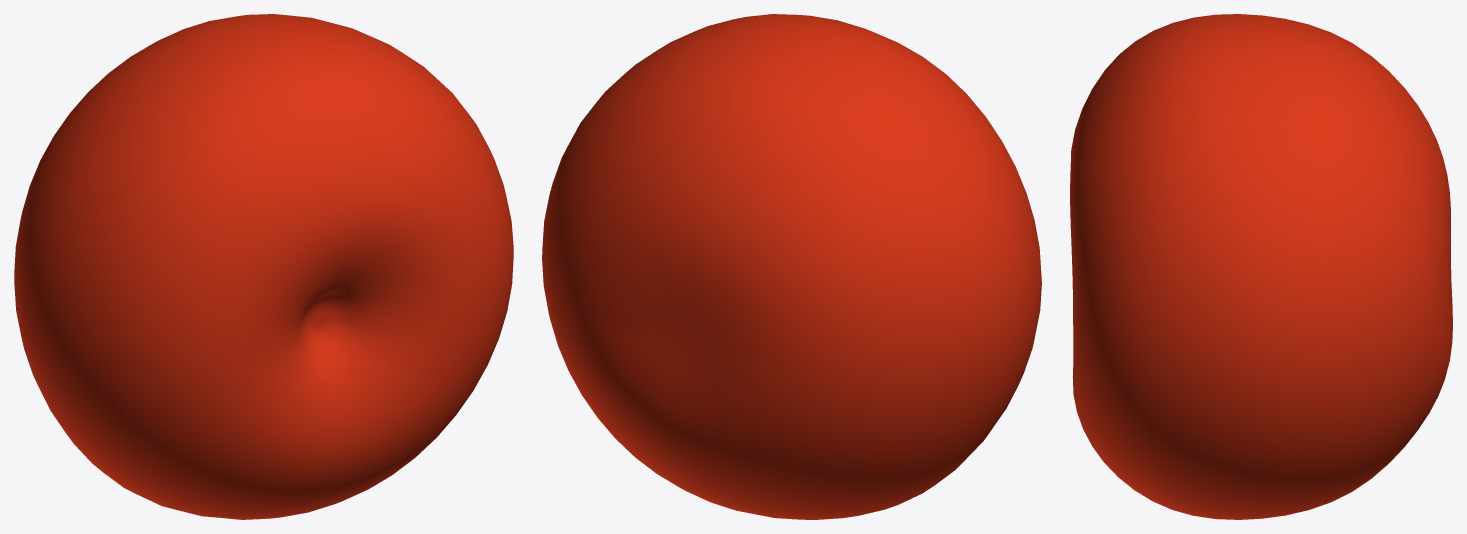
File: TomatoPeel.obj
The picture shows the model from 3 angles, left to right: view 1: azimuth 30°, elevation 25°; view 2: azimuth 150°, elevation 25°; view 3: azimuth 270°, elevation 25°; orthographic projection.
Parts seen in each view (by area): view 1: TomatoPeel; view 2: TomatoPeel; view 3: TomatoPeel.
Part boxes in pixels (<box>): TomatoPeel: <box>14,14,513,519</box>; TomatoPeel: <box>542,14,1041,519</box>; TomatoPeel: <box>1070,14,1452,519</box>.
Bounding box in the file's own units: 0.0729 × 0.0714 × 0.0541.
